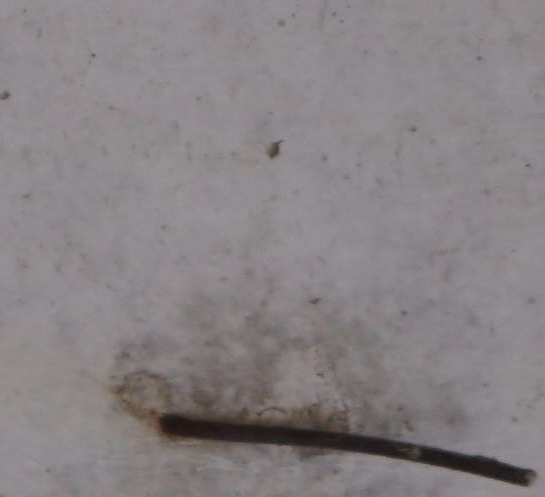Exposed reinforcement: (157, 412, 539, 489)
